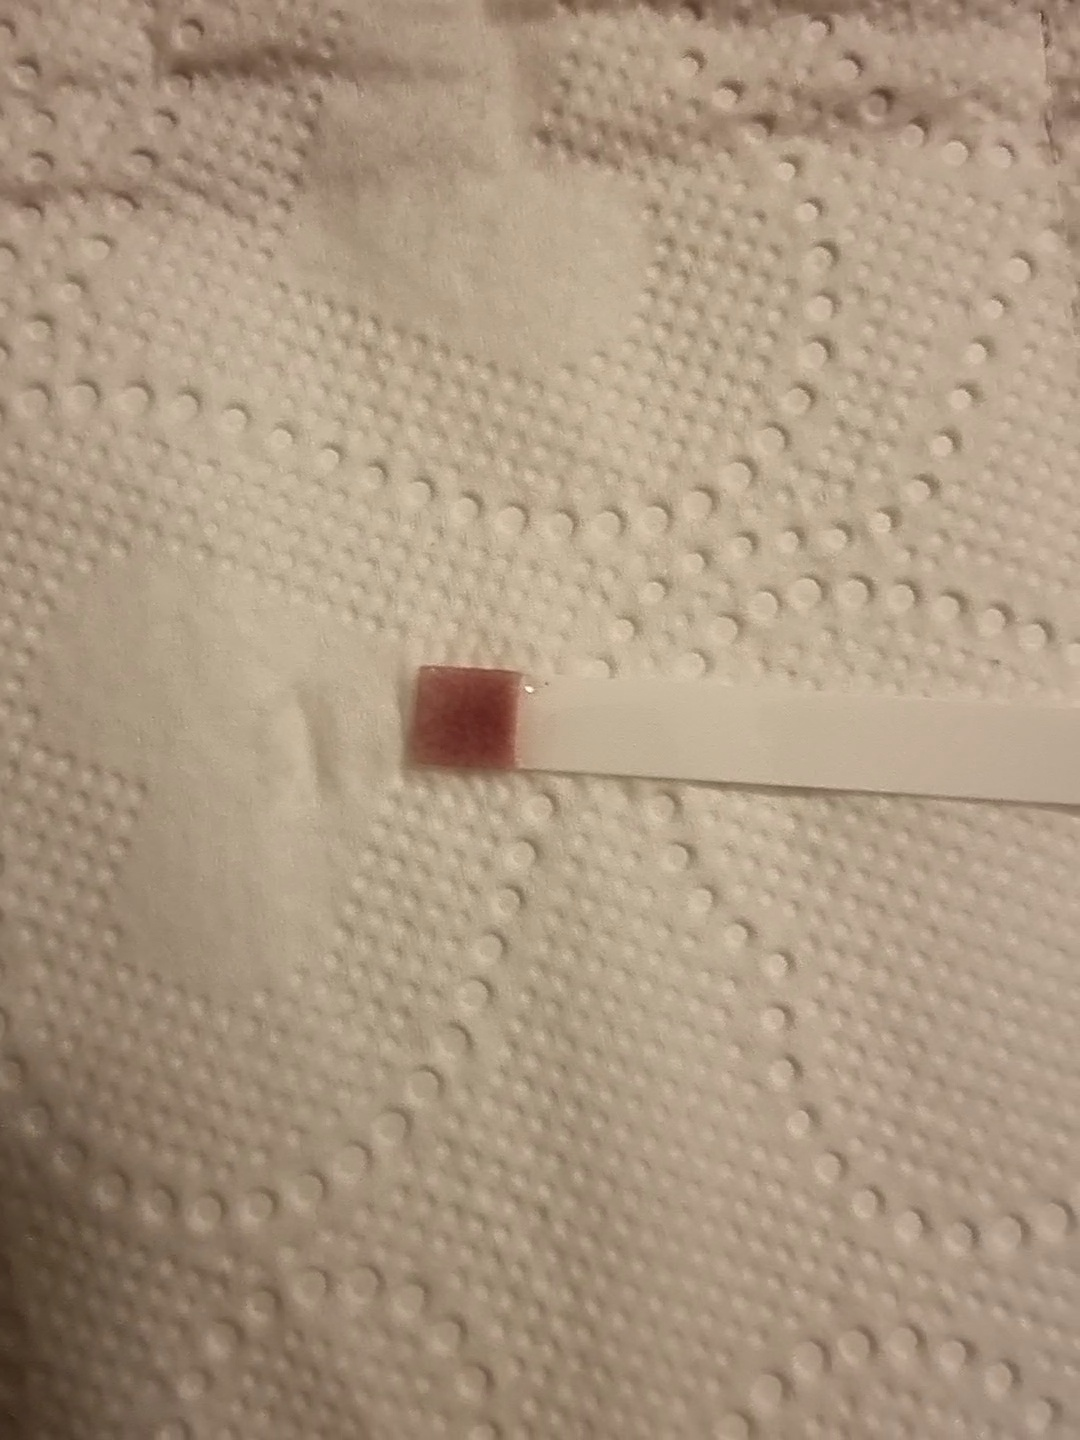keto-tip: (405, 657, 528, 776)
